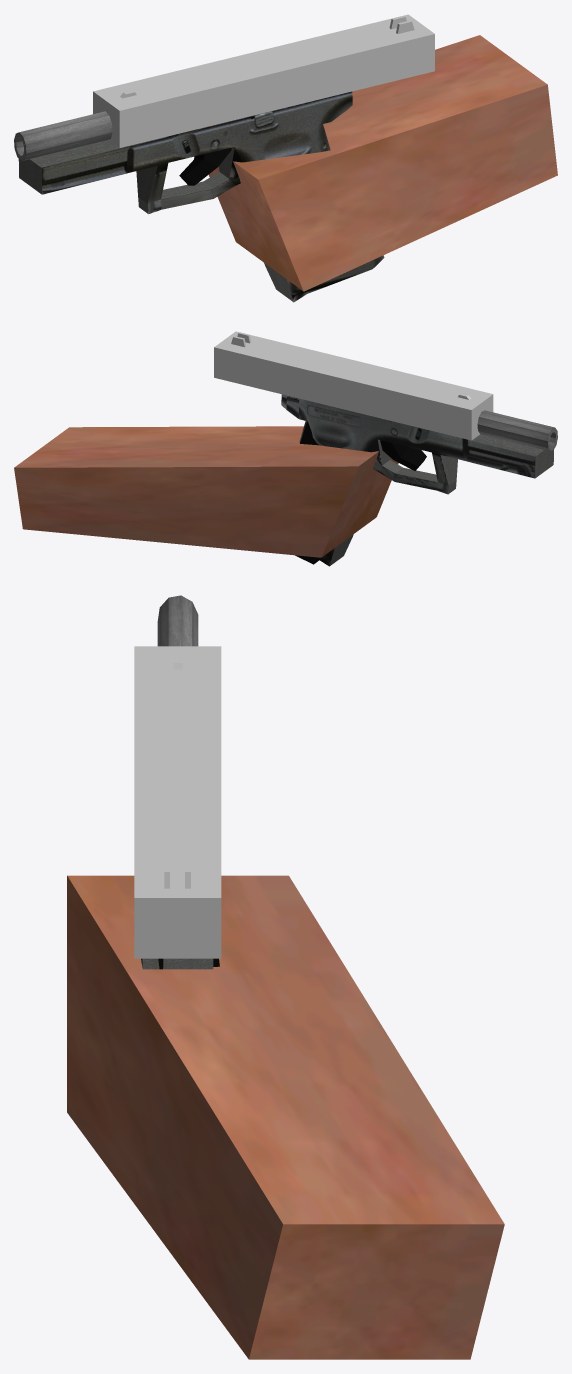
Rendered from pistol_000042.obj.
3 views of the same model, one above another, from view 1: azimuth 30°, elevation 25°; view 2: azimuth 150°, elevation 25°; view 3: azimuth 270°, elevation 25° (orthographic). The views are drawn at different scales.
Visible parts, largest first — view 1: Cube, Cube.001, Cube.003; view 2: Cube, Cube.001, Cube.003, Cube.002; view 3: Cube, Cube.001.
Part boxes in pixels (bbox=[...]): Cube: bbox=[14, 35, 557, 302]; Cube.001: bbox=[93, 14, 434, 147]; Cube.003: bbox=[179, 148, 231, 185]; Cube: bbox=[14, 394, 557, 566]; Cube.001: bbox=[214, 331, 493, 440]; Cube.003: bbox=[380, 440, 426, 470]; Cube.002: bbox=[295, 421, 320, 564]; Cube: bbox=[67, 595, 504, 1359]; Cube.001: bbox=[134, 646, 221, 958].
Size of the model in its own units: 1.74 by 0.735 by 0.7214.
